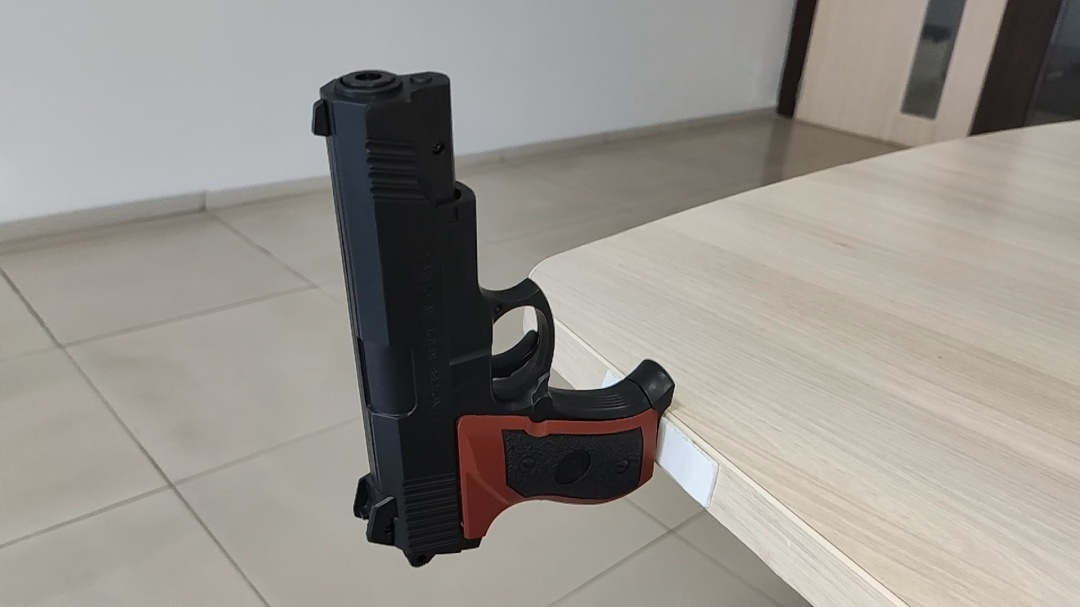gun: (310, 70, 679, 568)
